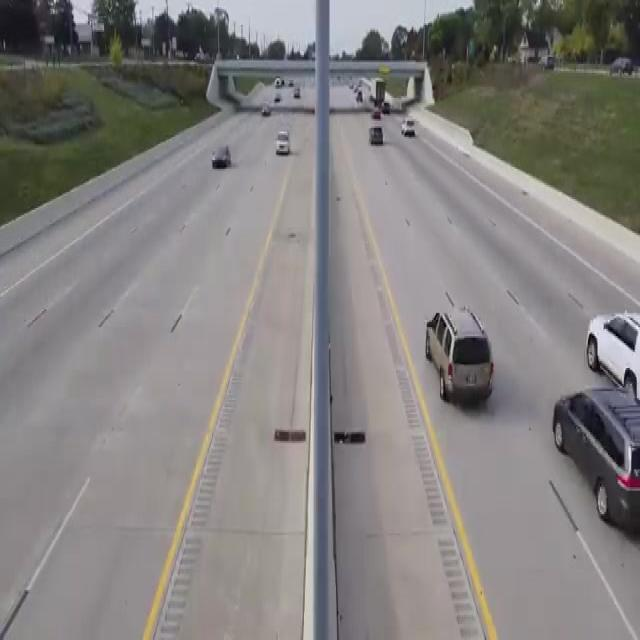car: (549, 384, 640, 540), (412, 294, 519, 409), (585, 293, 640, 394), (208, 141, 233, 177), (271, 128, 296, 164), (363, 122, 390, 150), (401, 109, 416, 140), (261, 98, 274, 126), (290, 82, 305, 106), (369, 106, 387, 125)
truck: (396, 103, 422, 149), (363, 121, 386, 159), (366, 75, 388, 102)
